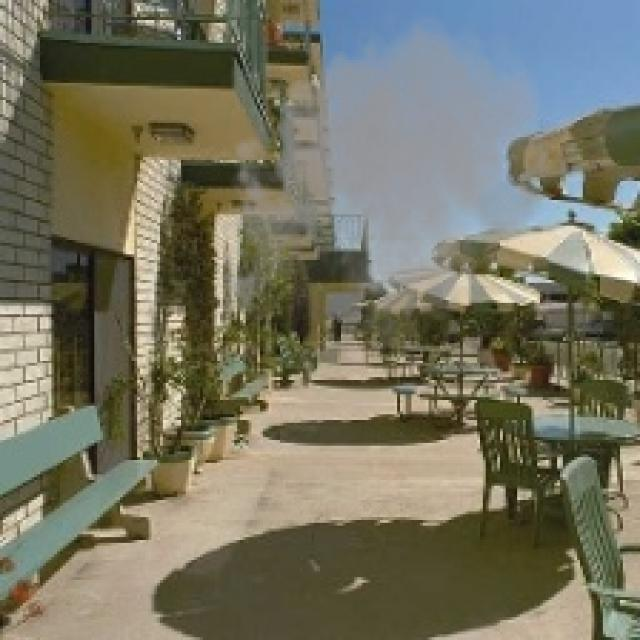Smoke: (212, 2, 574, 374)
